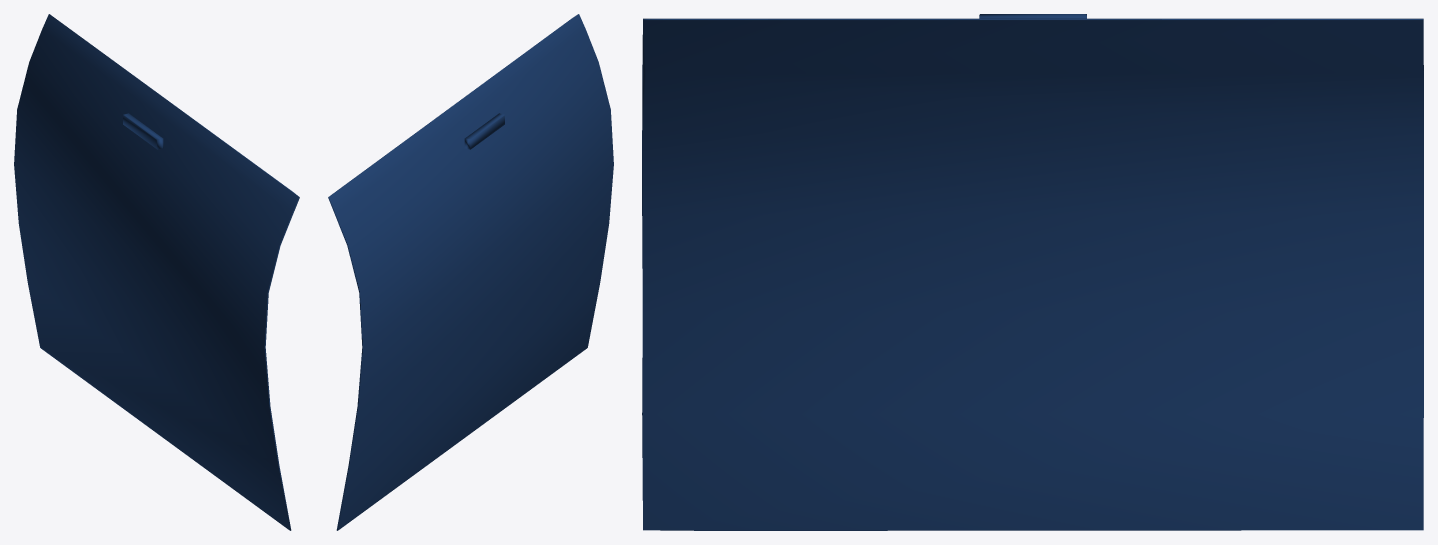
The model's file is rear_right_door.glb.
The picture shows the model from 3 angles, left to right: view 1: azimuth 30°, elevation 25°; view 2: azimuth 150°, elevation 25°; view 3: azimuth 270°, elevation 25°; orthographic projection. The views are drawn at different scales.
Visible parts, largest first — view 1: GEO_Door_Rear_Right; view 2: GEO_Door_Rear_Right; view 3: GEO_Door_Rear_Right.
Part boxes in pixels (x1,y1,x2,y2): GEO_Door_Rear_Right: (14,14,299,530); GEO_Door_Rear_Right: (328,14,613,530); GEO_Door_Rear_Right: (642,14,1423,530).
Size of the model in its own units: 0.0823 by 0.7314 by 0.999.
